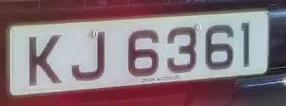1: (235, 17, 261, 72)
3: (160, 19, 201, 77)
6: (121, 23, 167, 83), (200, 17, 235, 73)
J: (67, 26, 114, 88)
K: (22, 28, 67, 92)
